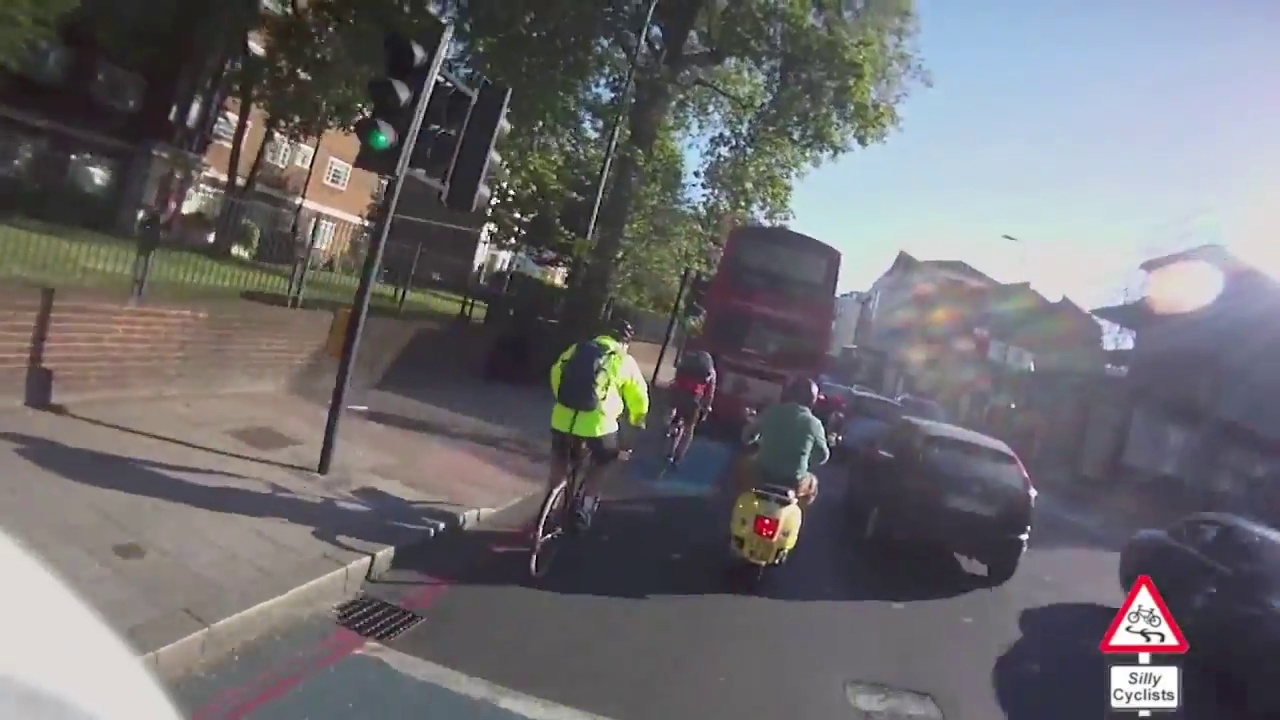cyclist_back: (527, 306, 653, 589), (728, 365, 830, 599), (656, 336, 716, 478)
